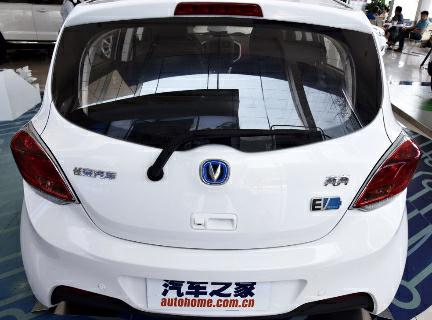长安-奔奔EV: (6, 2, 425, 313)
